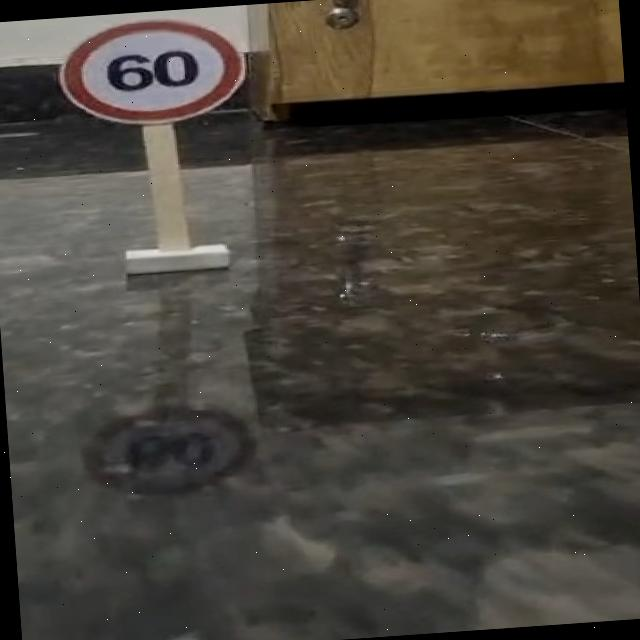Speed60: (36, 3, 270, 142)
